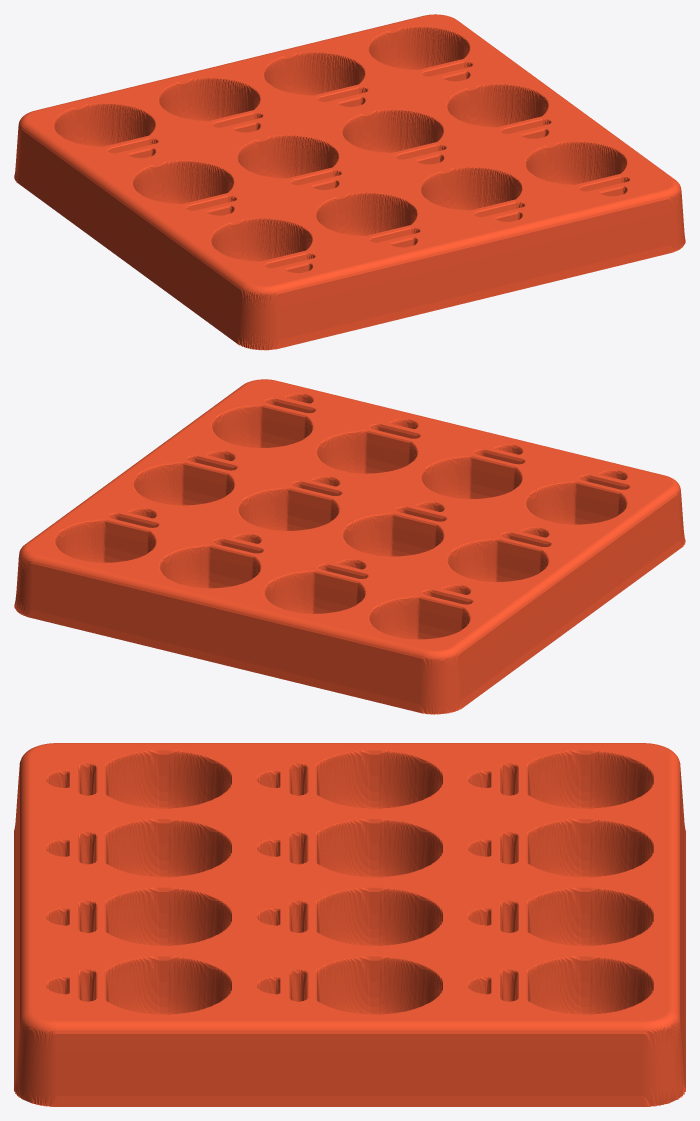
Rendered from mold.glb.
The picture shows the model from 3 angles, top to bottom: view 1: azimuth 30°, elevation 25°; view 2: azimuth 150°, elevation 25°; view 3: azimuth 270°, elevation 25°; orthographic projection. The views are drawn at different scales.
Parts seen in each view (by area): view 1: geometry_0; view 2: geometry_0; view 3: geometry_0.
Part boxes in pixels (x1,y1,x2,y2): geometry_0: (14,14,685,350); geometry_0: (14,379,685,714); geometry_0: (14,743,685,1106).
Bounding box in the file's own units: 0.1446 × 0.0182 × 0.141.
